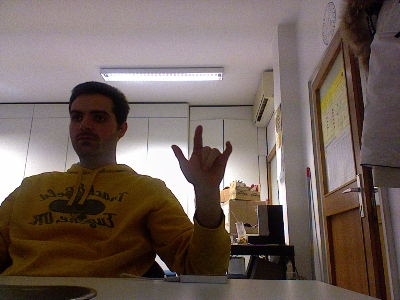我爱你: (170, 123, 232, 187)
